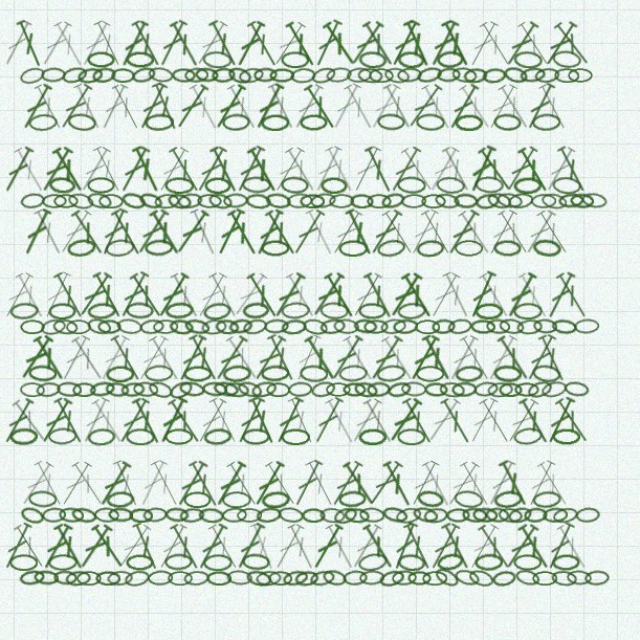chain: (360, 549, 390, 570), (432, 563, 459, 586), (435, 549, 463, 570), (378, 250, 407, 270), (212, 310, 241, 330), (179, 384, 205, 406), (521, 384, 548, 405), (36, 85, 64, 105), (82, 250, 111, 269), (119, 250, 148, 269), (378, 370, 407, 389), (526, 370, 555, 389), (452, 490, 481, 509), (244, 385, 271, 405), (465, 565, 492, 585), (546, 70, 574, 89), (83, 130, 111, 149), (527, 250, 555, 269), (509, 430, 537, 449), (416, 490, 444, 509), (490, 490, 518, 509), (212, 71, 241, 89), (235, 85, 261, 105), (315, 85, 341, 105), (150, 205, 176, 225), (159, 385, 185, 405), (37, 505, 63, 525), (336, 505, 362, 525), (380, 565, 406, 585), (361, 71, 389, 89), (509, 71, 537, 89), (46, 131, 74, 149), (435, 191, 463, 209), (546, 191, 574, 209), (416, 251, 444, 269), (28, 311, 56, 329), (102, 311, 130, 329), (398, 311, 426, 329), (453, 371, 481, 389), (102, 431, 130, 449), (213, 431, 241, 449), (120, 491, 148, 509), (268, 491, 296, 509), (527, 491, 555, 509), (398, 551, 426, 569), (77, 85, 103, 104), (416, 85, 442, 104), (101, 205, 127, 224), (258, 385, 284, 404), (535, 385, 561, 404), (383, 505, 409, 524), (412, 505, 438, 524), (452, 565, 478, 584), (398, 71, 425, 89), (65, 191, 92, 209), (157, 131, 185, 148), (416, 131, 444, 148), (250, 191, 278, 208), (398, 191, 426, 208), (472, 191, 500, 208), (176, 311, 204, 328), (287, 311, 315, 328), (324, 311, 352, 328), (231, 371, 259, 388), (342, 371, 370, 388), (144, 85, 169, 104), (499, 85, 524, 104), (134, 205, 159, 224), (382, 205, 407, 224), (483, 205, 508, 224), (101, 325, 126, 344), (315, 385, 340, 404), (503, 505, 528, 524), (326, 565, 351, 584), (510, 565, 535, 584), (92, 86, 118, 104), (246, 86, 272, 104), (385, 86, 411, 104), (83, 206, 109, 224), (433, 206, 459, 224), (535, 206, 561, 224), (57, 326, 83, 344), (194, 326, 220, 344), (307, 326, 333, 344), (86, 506, 112, 524), (396, 506, 422, 524), (546, 506, 572, 524), (137, 566, 163, 584), (253, 566, 279, 584), (288, 566, 314, 584), (314, 566, 340, 584), (231, 131, 258, 148), (379, 131, 406, 148), (490, 131, 517, 148), (527, 131, 554, 148), (287, 191, 314, 208), (157, 251, 184, 268), (139, 311, 166, 328), (250, 311, 277, 328), (46, 371, 73, 388), (157, 371, 184, 388), (268, 371, 295, 388), (305, 371, 332, 388), (490, 371, 517, 388), (28, 431, 55, 448), (65, 431, 92, 448), (46, 491, 73, 508), (342, 491, 369, 508), (176, 551, 203, 568), (250, 551, 277, 568), (472, 551, 499, 568), (178, 206, 203, 224), (217, 206, 242, 224), (472, 206, 497, 224), (250, 326, 275, 344), (356, 386, 381, 404), (388, 386, 413, 404), (488, 566, 513, 584), (176, 192, 204, 208), (342, 252, 370, 268), (509, 312, 537, 328), (139, 432, 167, 448), (287, 432, 315, 448), (231, 492, 259, 508), (65, 552, 93, 568), (213, 552, 241, 568), (436, 71, 462, 88), (503, 206, 529, 223), (189, 386, 215, 403), (102, 72, 129, 88), (139, 72, 166, 88), (287, 72, 314, 88), (268, 132, 295, 148), (305, 132, 332, 148), (453, 132, 480, 148), (102, 192, 129, 208), (509, 192, 536, 208), (268, 252, 295, 268), (453, 252, 480, 268), (490, 252, 517, 268), (65, 312, 92, 328), (361, 312, 388, 328), (472, 312, 499, 328), (120, 372, 147, 388), (194, 372, 221, 388), (416, 372, 443, 388), (176, 432, 203, 448), (250, 432, 277, 448), (361, 432, 388, 448), (398, 432, 425, 448), (546, 432, 573, 448), (194, 492, 221, 508), (28, 552, 55, 568), (139, 552, 166, 568), (509, 552, 536, 568), (546, 552, 573, 568), (106, 86, 131, 103), (160, 86, 185, 103), (330, 86, 355, 103), (450, 86, 475, 103), (515, 86, 540, 103), (188, 206, 213, 223), (272, 206, 297, 223), (315, 206, 340, 223), (493, 206, 518, 223), (574, 206, 599, 223), (130, 326, 155, 343), (324, 326, 349, 343), (382, 326, 407, 343), (495, 326, 520, 343), (104, 386, 129, 403), (222, 386, 247, 403), (557, 386, 582, 403), (263, 506, 288, 523), (284, 506, 309, 523), (37, 566, 62, 583), (214, 192, 240, 208), (325, 192, 351, 208), (38, 206, 62, 223), (237, 326, 261, 343), (446, 326, 470, 343), (471, 386, 495, 403), (296, 87, 321, 103), (360, 87, 385, 103), (529, 87, 554, 103), (166, 207, 191, 223), (253, 207, 278, 223), (69, 327, 94, 343), (211, 327, 236, 343), (287, 327, 312, 343), (512, 327, 537, 343), (545, 327, 570, 343), (232, 387, 257, 403), (438, 387, 463, 403), (484, 387, 509, 403), (190, 507, 215, 523), (208, 507, 233, 523), (324, 507, 349, 523), (347, 507, 372, 523), (81, 567, 106, 583), (121, 567, 146, 583), (194, 567, 219, 583), (263, 567, 288, 583), (545, 567, 570, 583), (461, 87, 485, 103), (479, 87, 503, 103), (152, 327, 176, 343), (180, 327, 204, 343), (224, 327, 248, 343), (53, 387, 77, 403), (119, 387, 143, 403), (134, 387, 158, 403), (423, 507, 447, 523), (494, 507, 518, 523), (300, 567, 324, 583), (337, 327, 362, 342), (235, 567, 260, 582), (58, 87, 82, 102), (350, 87, 374, 102), (398, 87, 422, 102), (232, 207, 256, 222), (293, 207, 317, 222), (552, 207, 576, 222), (271, 327, 295, 342), (356, 327, 380, 342), (394, 327, 418, 342), (567, 327, 591, 342), (73, 387, 97, 402), (146, 387, 170, 402), (212, 387, 236, 402), (402, 387, 426, 402), (450, 387, 474, 402), (75, 507, 99, 522), (109, 507, 133, 522), (122, 507, 146, 522), (155, 507, 179, 522), (176, 507, 200, 522), (231, 507, 255, 522), (362, 507, 386, 522), (460, 507, 484, 522), (470, 507, 494, 522), (482, 507, 506, 522), (537, 507, 561, 522), (568, 507, 592, 522), (51, 567, 75, 582), (160, 567, 184, 582), (346, 567, 370, 582), (362, 567, 386, 582), (393, 567, 417, 582), (560, 567, 584, 582), (577, 567, 601, 582), (195, 87, 218, 102), (205, 87, 228, 102), (221, 87, 244, 102), (261, 87, 284, 102), (436, 87, 459, 102), (452, 207, 475, 222), (563, 207, 586, 222), (431, 327, 454, 342), (483, 327, 506, 342), (528, 327, 551, 342), (294, 387, 317, 402), (369, 387, 392, 402), (59, 507, 82, 522), (519, 507, 542, 522), (70, 567, 93, 582), (276, 88, 300, 102), (371, 88, 395, 102), (548, 88, 572, 102), (561, 88, 585, 102), (59, 208, 83, 222), (70, 208, 94, 222), (113, 208, 137, 222), (207, 208, 231, 222), (305, 208, 329, 222), (333, 208, 357, 222), (369, 208, 393, 222), (402, 208, 426, 222), (421, 208, 445, 222), (526, 208, 550, 222), (38, 328, 62, 342), (82, 328, 106, 342), (165, 328, 189, 342), (366, 328, 390, 342), (415, 328, 439, 342), (468, 328, 492, 342), (38, 388, 62, 402), (330, 388, 354, 402), (510, 388, 534, 402), (245, 508, 269, 522), (92, 568, 116, 582), (110, 568, 134, 582), (179, 568, 203, 582), (216, 568, 240, 582), (422, 568, 446, 582), (527, 568, 551, 582), (125, 88, 148, 102), (183, 88, 206, 102), (353, 208, 376, 222), (112, 328, 135, 342), (88, 388, 111, 402), (273, 388, 296, 402), (346, 388, 369, 402), (424, 388, 447, 402), (495, 388, 518, 402), (142, 508, 165, 522), (307, 508, 330, 522), (445, 508, 468, 522), (275, 568, 298, 582), (408, 568, 431, 582)
double: (545, 41, 586, 88), (27, 401, 68, 448), (404, 101, 444, 148), (275, 41, 314, 89), (497, 41, 536, 89), (398, 161, 437, 209), (453, 221, 492, 269), (176, 401, 215, 449), (441, 461, 480, 509), (90, 521, 129, 569), (472, 521, 511, 569), (497, 521, 536, 569), (324, 41, 363, 88), (472, 161, 511, 208), (90, 281, 129, 328), (238, 281, 277, 328), (34, 341, 73, 388), (231, 341, 270, 388), (386, 401, 425, 448), (423, 401, 462, 448), (546, 401, 585, 448), (367, 461, 406, 508), (127, 521, 166, 568), (473, 41, 511, 89), (535, 41, 573, 89), (72, 101, 110, 149), (183, 101, 221, 149), (306, 101, 344, 149), (454, 101, 492, 149), (491, 101, 529, 149), (84, 221, 122, 269), (294, 221, 332, 269), (368, 221, 406, 269), (380, 221, 418, 269), (528, 221, 566, 269), (140, 281, 178, 329), (165, 281, 203, 329), (251, 281, 289, 329), (387, 281, 425, 329), (47, 341, 85, 389), (84, 341, 122, 389), (220, 341, 258, 389), (257, 341, 295, 389), (306, 341, 344, 389), (368, 341, 406, 389), (380, 341, 418, 389), (103, 401, 141, 449), (498, 401, 536, 449), (35, 461, 73, 509), (72, 461, 110, 509), (109, 461, 147, 509), (528, 461, 566, 509), (510, 521, 548, 569), (350, 41, 388, 88), (510, 41, 548, 88), (183, 221, 221, 268), (313, 281, 351, 328), (84, 461, 122, 508), (343, 461, 381, 508), (103, 521, 141, 568), (54, 41, 91, 89), (288, 41, 325, 89), (220, 101, 257, 149), (232, 101, 269, 149), (368, 101, 405, 149), (29, 161, 66, 209), (54, 161, 91, 209), (66, 161, 103, 209), (91, 161, 128, 209), (165, 161, 202, 209), (177, 161, 214, 209), (202, 161, 239, 209), (276, 161, 313, 209), (288, 161, 325, 209), (387, 161, 424, 209), (424, 161, 461, 209), (510, 161, 547, 209), (535, 161, 572, 209), (158, 221, 195, 269), (269, 221, 306, 269), (331, 221, 368, 269), (417, 221, 454, 269), (442, 221, 479, 269), (516, 221, 553, 269), (202, 281, 239, 329), (276, 281, 313, 329), (288, 281, 325, 329), (325, 281, 362, 329), (399, 281, 436, 329), (473, 281, 510, 329), (510, 281, 547, 329), (547, 281, 584, 329), (121, 341, 158, 389), (146, 341, 183, 389), (158, 341, 195, 389), (343, 341, 380, 389), (454, 341, 491, 389), (54, 401, 91, 449), (128, 401, 165, 449), (350, 401, 387, 449), (362, 401, 399, 449), (436, 401, 473, 449), (473, 401, 510, 449), (183, 461, 220, 509), (220, 461, 257, 509), (232, 461, 269, 509), (257, 461, 294, 509), (331, 461, 368, 509), (454, 461, 491, 509), (214, 521, 251, 569), (313, 521, 350, 569), (350, 521, 387, 569), (547, 521, 584, 569), (141, 40, 177, 89), (381, 100, 417, 149), (437, 160, 473, 209), (104, 280, 140, 329), (418, 340, 454, 389), (517, 340, 553, 389), (67, 400, 103, 449), (314, 400, 350, 449), (462, 400, 498, 449), (202, 41, 239, 88), (362, 41, 399, 88), (498, 161, 535, 208), (72, 221, 109, 268), (146, 221, 183, 268), (491, 221, 528, 268), (331, 341, 368, 388), (491, 341, 528, 388), (269, 461, 306, 508), (29, 521, 66, 568), (362, 521, 399, 568), (67, 41, 103, 89), (92, 41, 128, 89), (252, 41, 288, 89), (462, 41, 498, 89), (196, 101, 232, 149), (295, 101, 331, 149), (344, 101, 380, 149), (418, 101, 454, 149), (443, 101, 479, 149), (480, 101, 516, 149), (18, 161, 54, 209), (129, 161, 165, 209), (252, 161, 288, 209), (122, 221, 158, 269), (233, 221, 269, 269), (480, 221, 516, 269), (18, 281, 54, 329), (30, 281, 66, 329), (67, 281, 103, 329), (178, 281, 214, 329), (351, 281, 387, 329), (425, 281, 461, 329), (110, 341, 146, 389), (406, 341, 442, 389), (443, 341, 479, 389), (480, 341, 516, 389), (18, 401, 54, 449), (203, 401, 239, 449), (326, 401, 362, 449), (400, 401, 436, 449), (511, 401, 547, 449), (196, 461, 232, 509), (418, 461, 454, 509), (55, 521, 91, 569), (67, 521, 103, 569), (178, 521, 214, 569), (203, 521, 239, 569), (326, 521, 362, 569), (425, 521, 461, 569), (462, 521, 498, 569), (18, 40, 53, 89), (166, 40, 201, 89), (215, 40, 250, 89), (388, 40, 423, 89), (425, 40, 460, 89), (437, 40, 472, 89), (147, 100, 182, 149), (258, 100, 293, 149), (332, 100, 367, 149), (517, 100, 552, 149), (104, 160, 139, 209), (240, 160, 275, 209), (326, 160, 361, 209), (351, 160, 386, 209), (548, 160, 583, 209), (48, 220, 83, 269), (307, 220, 342, 269), (406, 220, 441, 269), (129, 280, 164, 329), (196, 340, 231, 389), (215, 400, 250, 449), (48, 460, 83, 509), (159, 460, 194, 509), (295, 460, 330, 509), (307, 460, 342, 509), (406, 460, 441, 509), (480, 460, 515, 509), (492, 460, 527, 509), (18, 520, 53, 569), (240, 520, 275, 569), (437, 520, 472, 569), (178, 41, 213, 89), (240, 41, 275, 89), (36, 101, 71, 149), (48, 101, 83, 149), (122, 101, 157, 149), (215, 281, 250, 329), (363, 281, 398, 329), (499, 281, 534, 329), (73, 341, 108, 389), (381, 461, 416, 509), (166, 521, 201, 569), (277, 521, 312, 569), (105, 40, 139, 89), (315, 40, 349, 89), (86, 100, 120, 149), (271, 100, 305, 149), (142, 160, 176, 209), (315, 160, 349, 209), (37, 220, 71, 269), (222, 220, 256, 269), (345, 220, 379, 269), (56, 280, 90, 329), (438, 280, 472, 329), (271, 340, 305, 389), (93, 400, 127, 449), (167, 400, 201, 449), (241, 400, 275, 449), (278, 400, 312, 449), (537, 400, 571, 449), (148, 460, 182, 509), (518, 460, 552, 509), (401, 520, 435, 569), (130, 41, 164, 89), (530, 101, 564, 149), (216, 161, 250, 209), (259, 221, 293, 269), (537, 281, 571, 329), (185, 341, 219, 389), (142, 401, 176, 449), (31, 40, 64, 89), (401, 40, 434, 89), (463, 160, 496, 209), (111, 220, 144, 269), (197, 220, 230, 269), (463, 280, 496, 329), (296, 340, 329, 389), (253, 400, 286, 449), (290, 400, 323, 449), (123, 460, 156, 509), (142, 520, 175, 569), (537, 520, 570, 569), (111, 101, 144, 149), (364, 161, 397, 209), (530, 341, 563, 389), (290, 521, 323, 569), (161, 100, 193, 149), (254, 520, 286, 569), (390, 520, 421, 569)
